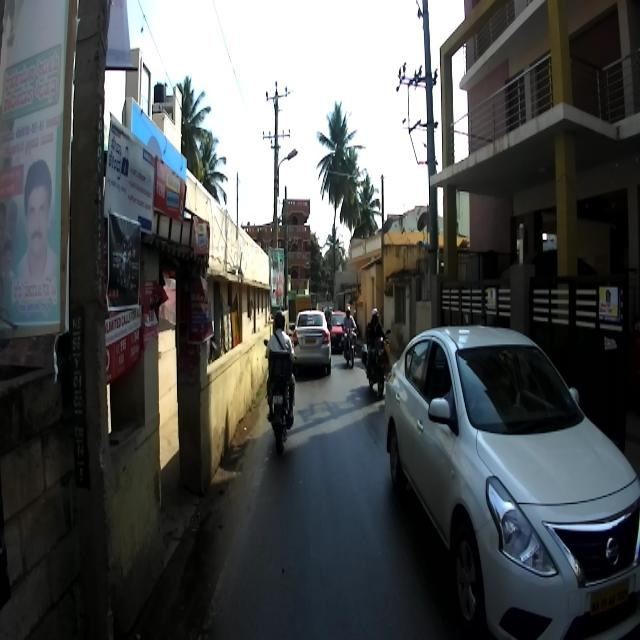Car_Maruti-Suzuki: (290, 308, 332, 376), (326, 308, 348, 350)
Car_Nissan: (384, 324, 640, 639)
motorcycle: (342, 323, 358, 368)
motorcycle_Honda: (264, 337, 294, 454)
motorcycle_bajaj: (362, 329, 392, 396)
